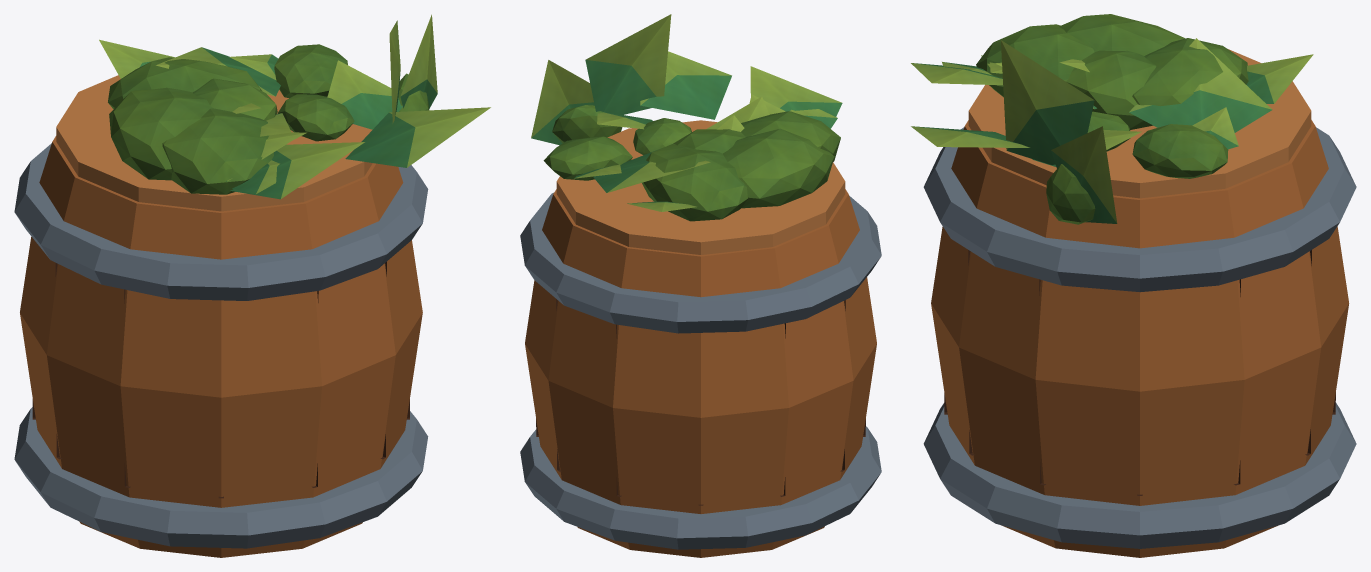
File: kit_barrel.glb
3 views of the same model, side by side, from view 1: azimuth 30°, elevation 25°; view 2: azimuth 150°, elevation 25°; view 3: azimuth 270°, elevation 25° (orthographic). The views are drawn at different scales.
Visible parts, largest first — view 1: Barrel staves, Barrel iron hoop.001, Barrel iron hoop, Barrel lid, Woodland shared moss cushion.001, Woodland shared moss cushion.003, Woodland shared curved ivy leaf.012, Woodland shared moss cushion.007, Woodland shared curved ivy leaf.001, Woodland shared moss cushion.005, Woodland shared curved ivy leaf.011, Woodland shared moss cushion.006 (+8 smaller); view 2: Barrel staves, Barrel iron hoop.001, Barrel iron hoop, Barrel lid, Woodland shared moss cushion.003, Woodland shared curved ivy leaf.004, Woodland shared moss cushion.007, Woodland shared curved ivy leaf.012, Woodland shared curved ivy leaf.003, Woodland shared moss cushion.005, Woodland shared curved ivy leaf.001, Woodland shared moss cushion.001 (+7 smaller); view 3: Barrel staves, Barrel iron hoop.001, Barrel iron hoop, Barrel lid, Woodland shared curved ivy leaf.004, Woodland shared moss cushion.007, Woodland shared curved ivy leaf.010, Woodland shared moss cushion.004, Woodland shared moss cushion.005, Woodland shared moss cushion.001, Woodland shared curved ivy leaf.003, Woodland shared moss cushion.003 (+6 smaller).
Part boxes in pixels (left/top/right/bottom): Barrel staves: left=20, top=136, right=422, bottom=557; Barrel iron hoop.001: left=14, top=143, right=428, bottom=300; Barrel iron hoop: left=14, top=407, right=428, bottom=548; Barrel lid: left=56, top=75, right=372, bottom=211; Woodland shared moss cushion.001: left=162, top=108, right=273, bottom=194; Woodland shared moss cushion.003: left=109, top=87, right=212, bottom=180; Woodland shared curved ivy leaf.012: left=345, top=107, right=490, bottom=167; Woodland shared moss cushion.007: left=108, top=57, right=261, bottom=109; Woodland shared curved ivy leaf.001: left=230, top=142, right=364, bottom=199; Woodland shared moss cushion.005: left=274, top=44, right=347, bottom=98; Woodland shared curved ivy leaf.011: left=327, top=60, right=402, bottom=129; Woodland shared moss cushion.006: left=278, top=94, right=354, bottom=141; Barrel staves: left=525, top=189, right=876, bottom=557; Barrel iron hoop.001: left=520, top=192, right=881, bottom=333; Barrel iron hoop: left=520, top=426, right=881, bottom=549; Barrel lid: left=556, top=120, right=845, bottom=254; Woodland shared moss cushion.003: left=723, top=128, right=834, bottom=208; Woodland shared curved ivy leaf.004: left=585, top=14, right=671, bottom=114; Woodland shared moss cushion.007: left=642, top=144, right=748, bottom=221; Woodland shared curved ivy leaf.012: left=640, top=51, right=731, bottom=119; Woodland shared curved ivy leaf.003: left=531, top=60, right=594, bottom=145; Woodland shared moss cushion.005: left=543, top=136, right=632, bottom=180; Woodland shared curved ivy leaf.001: left=750, top=66, right=842, bottom=116; Woodland shared moss cushion.001: left=741, top=111, right=840, bottom=161; Barrel staves: left=931, top=120, right=1349, bottom=557; Barrel iron hoop.001: left=923, top=127, right=1356, bottom=292; Barrel iron hoop: left=923, top=402, right=1356, bottom=548; Barrel lid: left=968, top=49, right=1311, bottom=198; Woodland shared curved ivy leaf.004: left=1001, top=40, right=1094, bottom=164; Woodland shared moss cushion.007: left=1132, top=38, right=1248, bottom=106; Woodland shared curved ivy leaf.010: left=1129, top=38, right=1272, bottom=132; Woodland shared moss cushion.004: left=1066, top=50, right=1156, bottom=129; Woodland shared moss cushion.005: left=1132, top=124, right=1228, bottom=178; Woodland shared moss cushion.001: left=976, top=24, right=1094, bottom=96; Woodland shared curved ivy leaf.003: left=1051, top=126, right=1117, bottom=223; Woodland shared moss cushion.003: left=1059, top=14, right=1184, bottom=55.
Size of the model in its own units: 0.686 by 0.8146 by 0.6616.
Materials: 7 (3 with a texture image).
